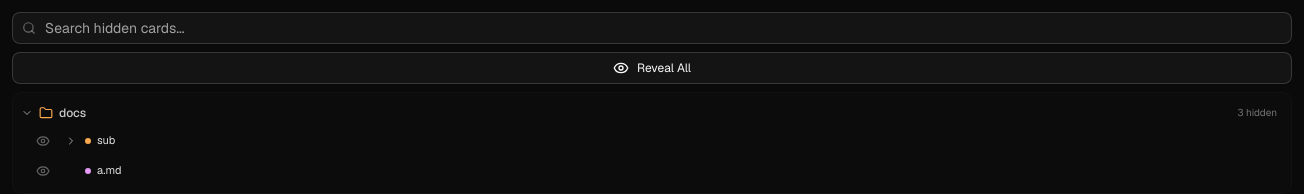
Scenario: HiddenNodesPanel › searching keeps a deep match's ancestor path (needs the built tree)
Type "deep" into the field with placeholder "Search hidden cards...".
click(652, 28); type("deep")  # box left=12, top=12, right=1292, bottom=44
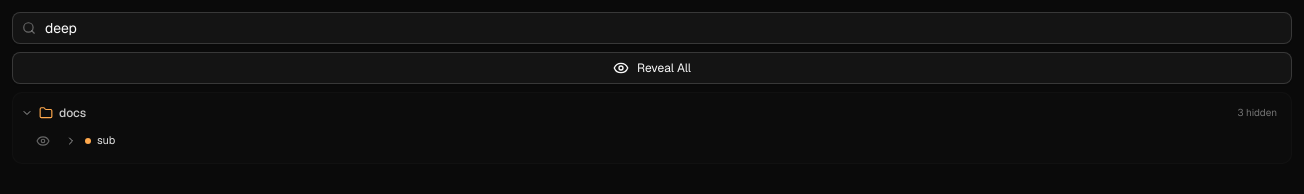
Check: the text "sub" is shown, box left=97, top=133, right=115, bottom=147
Check: the text "a.md" is gone
// Rows still don't auto-expand, so the match is one click down.
Click the button named "Expand".
click(71, 141)  # box left=63, top=133, right=79, bottom=149
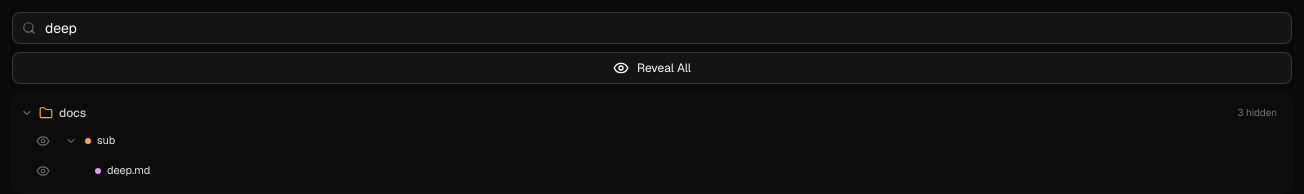
Check: the text "deep.md" is shown, box left=107, top=163, right=150, bottom=177
